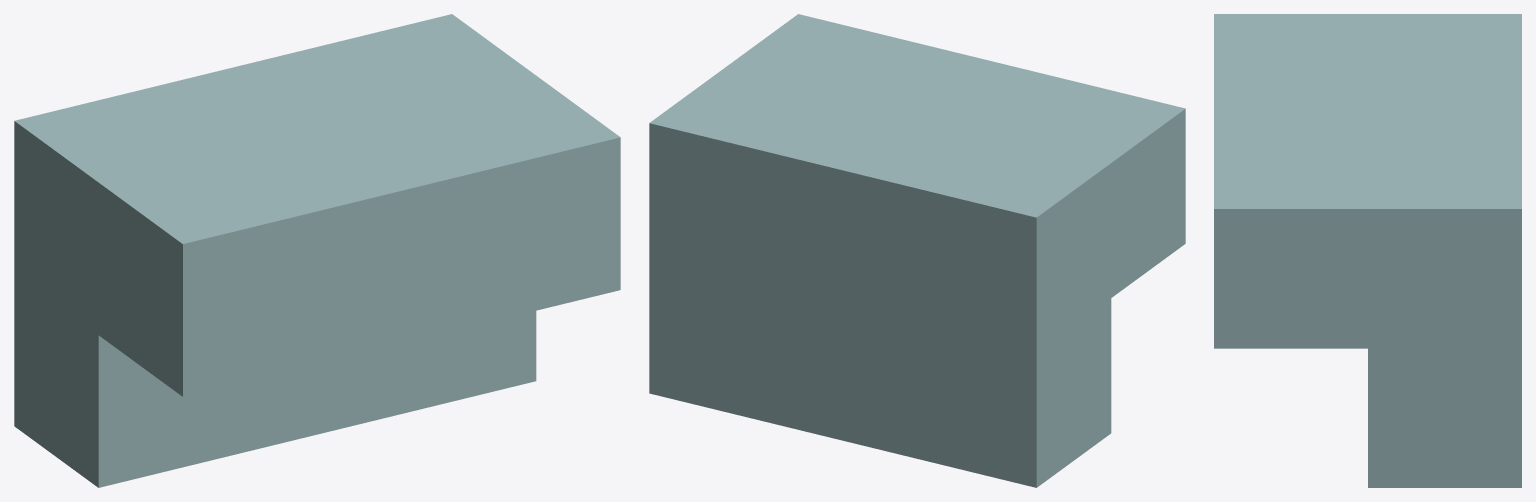
Rendered from platofrmcenter.obj.
3 renders of one model, left to right at view 1: azimuth 30°, elevation 25°; view 2: azimuth 150°, elevation 25°; view 3: azimuth 270°, elevation 25°, orthographic. The views are drawn at different scales.
Parts seen in each view (by area): view 1: platofrmcenter; view 2: platofrmcenter; view 3: platofrmcenter.
Boxes of the visible parts, x1=… form: platofrmcenter: x1=14, y1=14, x2=620, y2=487; platofrmcenter: x1=649, y1=14, x2=1185, y2=487; platofrmcenter: x1=1214, y1=14, x2=1521, y2=487.
Bounding box in the file's own units: 3 × 2 × 2.
1 material, 1 textured.
